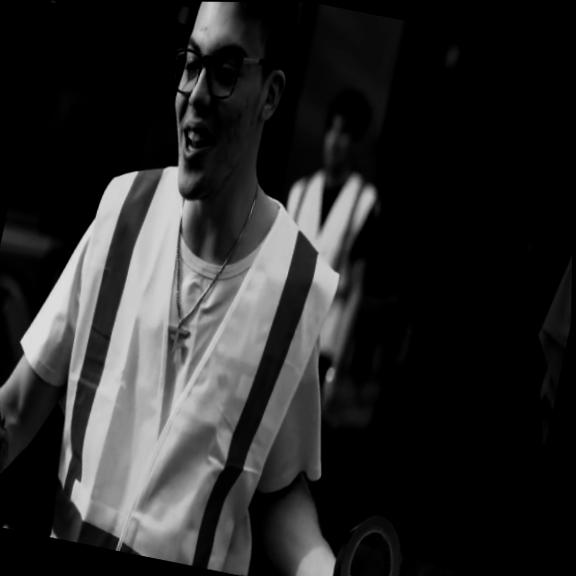safety_vest: (29, 147, 355, 576), (253, 160, 387, 367)
